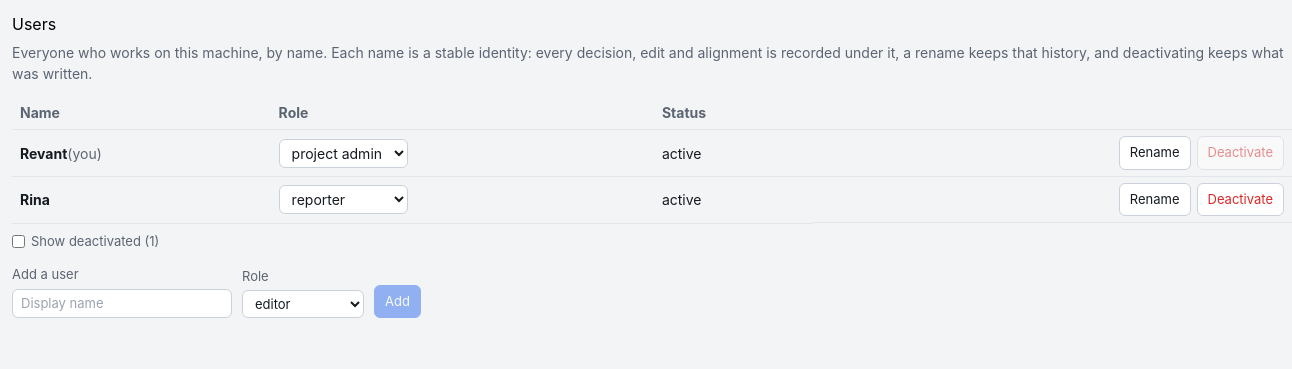
UsersPane (#237) › hides deactivated users behind a filter
Expected: the text "Rina" is shown, [20,191,50,208]
Expected: the text "Old" is not shown
Click the checkbox labelled "Show deactivated (1)" at coordinates (18, 241), box [12,235,25,248]
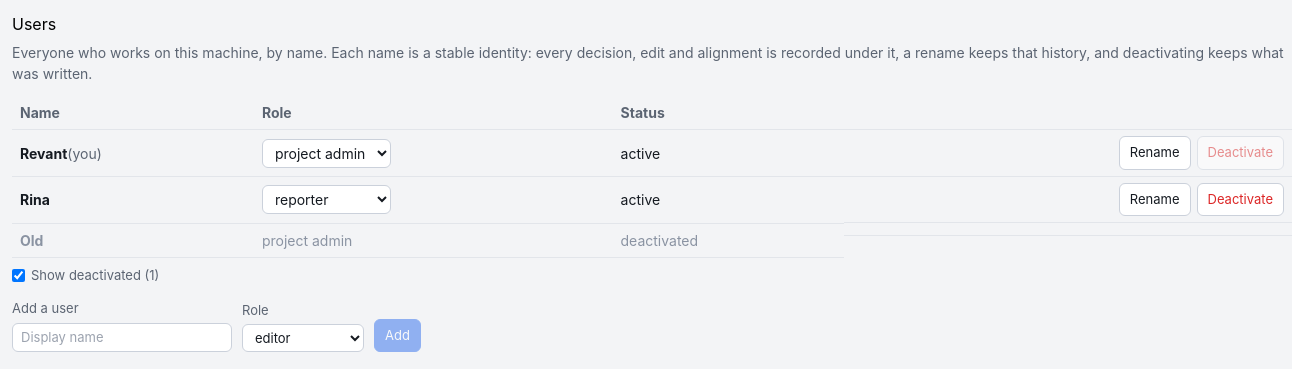
Now the text "Old" is shown, box [20,232,43,248]
Now the text "deactivated" is shown, box [612,223,844,257]
